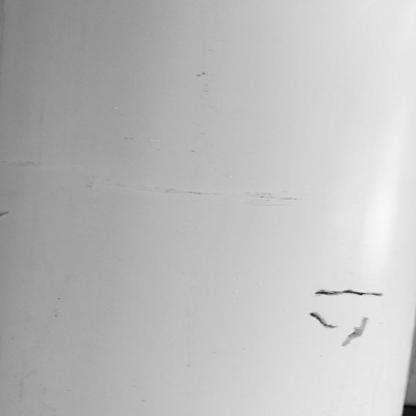fengxi: (340, 319, 374, 346), (310, 288, 384, 298), (309, 313, 337, 331)
